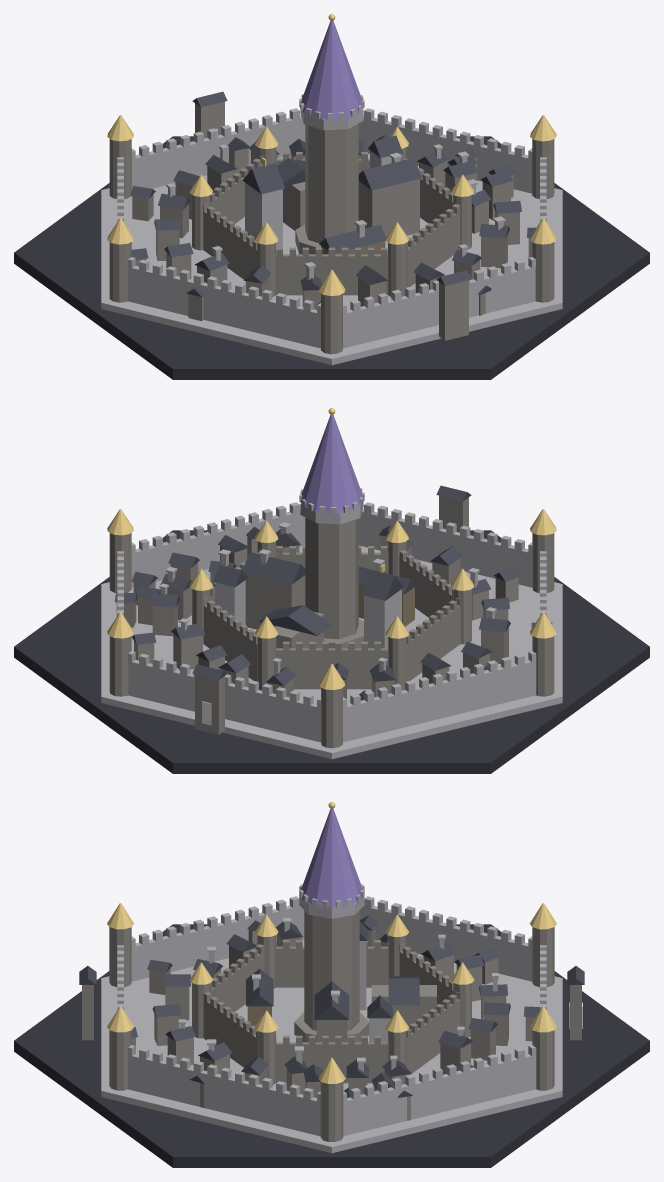
The model's file is city.glb.
The picture shows the model from 3 angles, top to bottom: view 1: azimuth 30°, elevation 25°; view 2: azimuth 150°, elevation 25°; view 3: azimuth 270°, elevation 25°; orthographic projection.
Visible parts, largest first — view 1: City_Stone2, City_Stone, City_Base, City_Slate, City_Gold, City_Purple; view 2: City_Stone2, City_Stone, City_Base, City_Slate, City_Gold, City_Purple, City_Wood; view 3: City_Stone2, City_Stone, City_Base, City_Slate, City_Gold, City_Purple.
Part boxes in pixels (<box>): City_Stone2: <box>101,94,562,365</box>; City_Stone: <box>109,101,554,354</box>; City_Base: <box>14,136,649,379</box>; City_Slate: <box>130,91,535,304</box>; City_Gold: <box>107,14,556,296</box>; City_Purple: <box>299,21,363,119</box>; City_Stone2: <box>101,488,562,759</box>; City_Stone: <box>109,495,554,748</box>; City_Base: <box>14,530,649,773</box>; City_Slate: <box>114,485,552,700</box>; City_Gold: <box>107,408,556,690</box>; City_Purple: <box>300,415,364,513</box>; City_Wood: <box>358,584,414,626</box>; City_Stone2: <box>101,884,562,1153</box>; City_Stone: <box>82,910,581,1141</box>; City_Base: <box>14,924,649,1167</box>; City_Slate: <box>79,915,584,1097</box>; City_Gold: <box>107,802,556,1083</box>; City_Purple: <box>301,809,362,907</box>.
Bounding box in the file's own units: 3.2 × 1.6 × 3.7.
